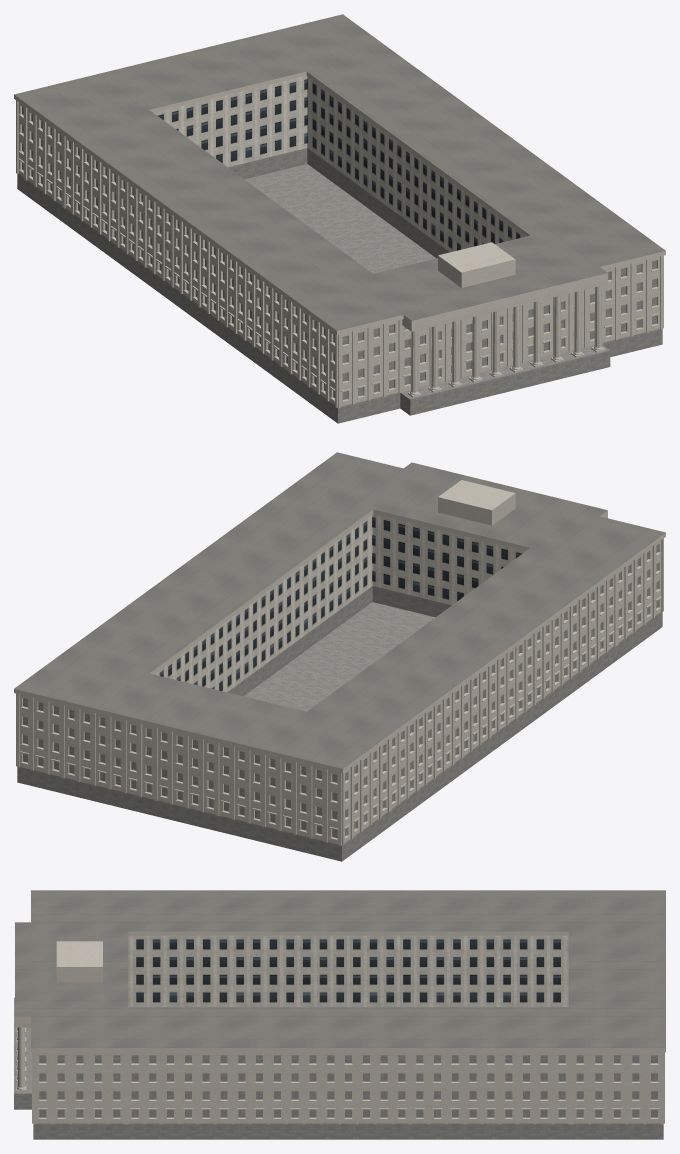
File: longworth_house.glb
3 renders of one model, top to bottom at view 1: azimuth 30°, elevation 25°; view 2: azimuth 150°, elevation 25°; view 3: azimuth 270°, elevation 25°, orthographic.
Visible parts, largest first — view 1: longworth_house; view 2: longworth_house; view 3: longworth_house.
Boxes of the visible parts, box(x1,y1,x2,y2) form: longworth_house: box(14, 14, 665, 423); longworth_house: box(14, 452, 665, 861); longworth_house: box(14, 890, 665, 1139).
Size of the model in its own units: 80.49 by 25.59 by 141.
Materials: 4 (4 with a texture image).
